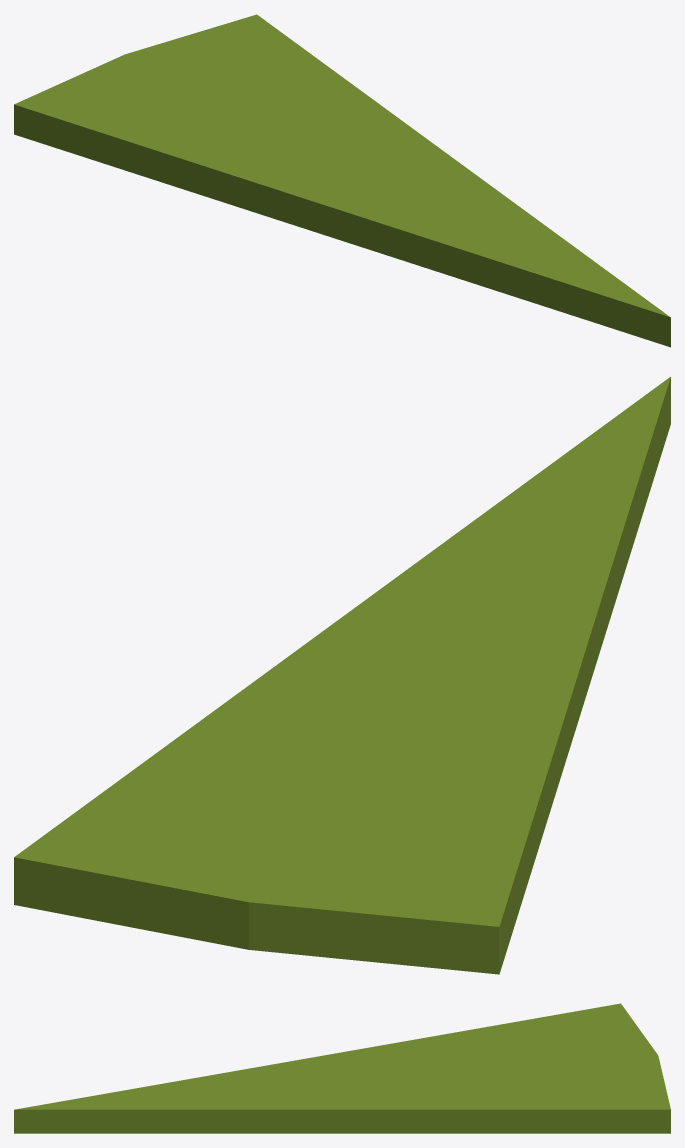
Rendered from forest_2.glb.
3 views of the same model, one above another, from view 1: azimuth 30°, elevation 25°; view 2: azimuth 150°, elevation 25°; view 3: azimuth 270°, elevation 25° (orthographic). The views are drawn at different scales.
Visible parts, largest first — view 1: Cylinder; view 2: Cylinder; view 3: Cylinder.
Boxes of the visible parts, box(x1,y1,x2,y2) form: Cylinder: box(14, 14, 670, 347); Cylinder: box(14, 376, 670, 974); Cylinder: box(14, 1003, 670, 1133).
Size of the model in its own units: 38.27 by 4 by 100.
